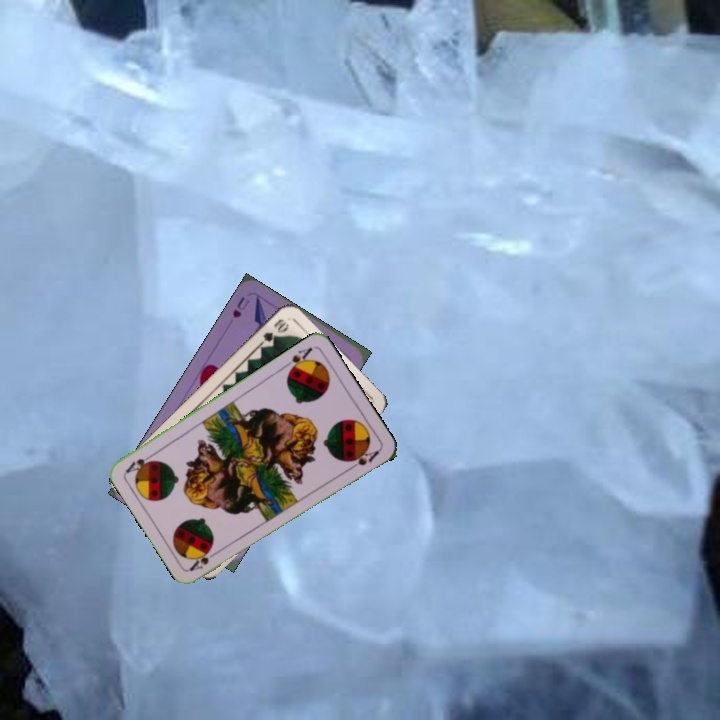G10: (256, 314, 291, 347)
HU: (228, 293, 252, 321)
SA: (279, 343, 315, 376), (186, 546, 222, 574)
